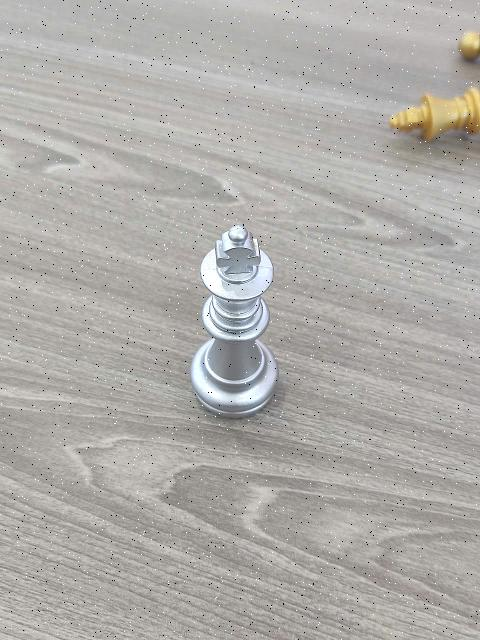white_king: (186, 220, 285, 420)
